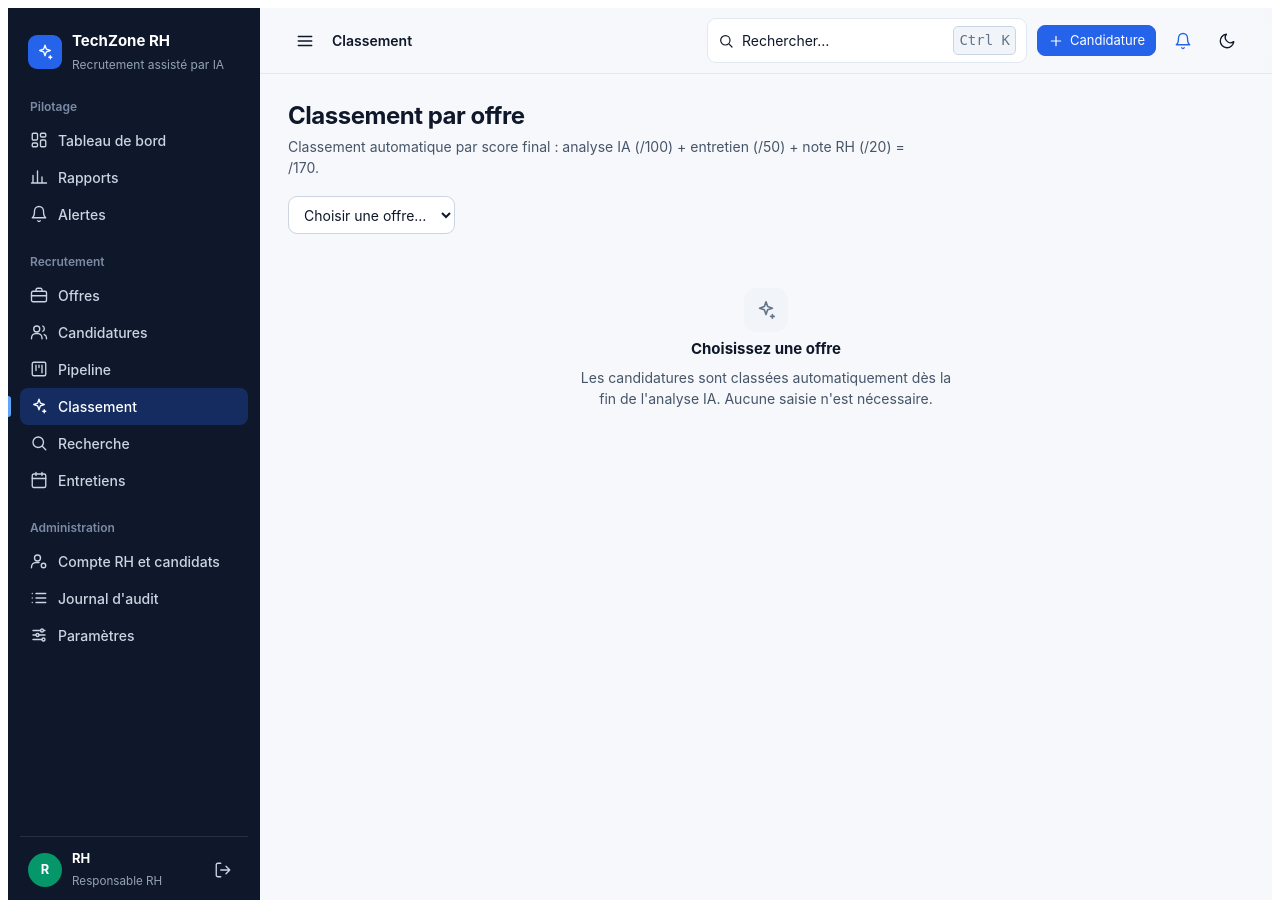
Test: shows the ranking by final score and enables invitations once the offer is open
Select "Dev" in the dropdown named "Offre" at (372, 215), box [288, 196, 455, 234]
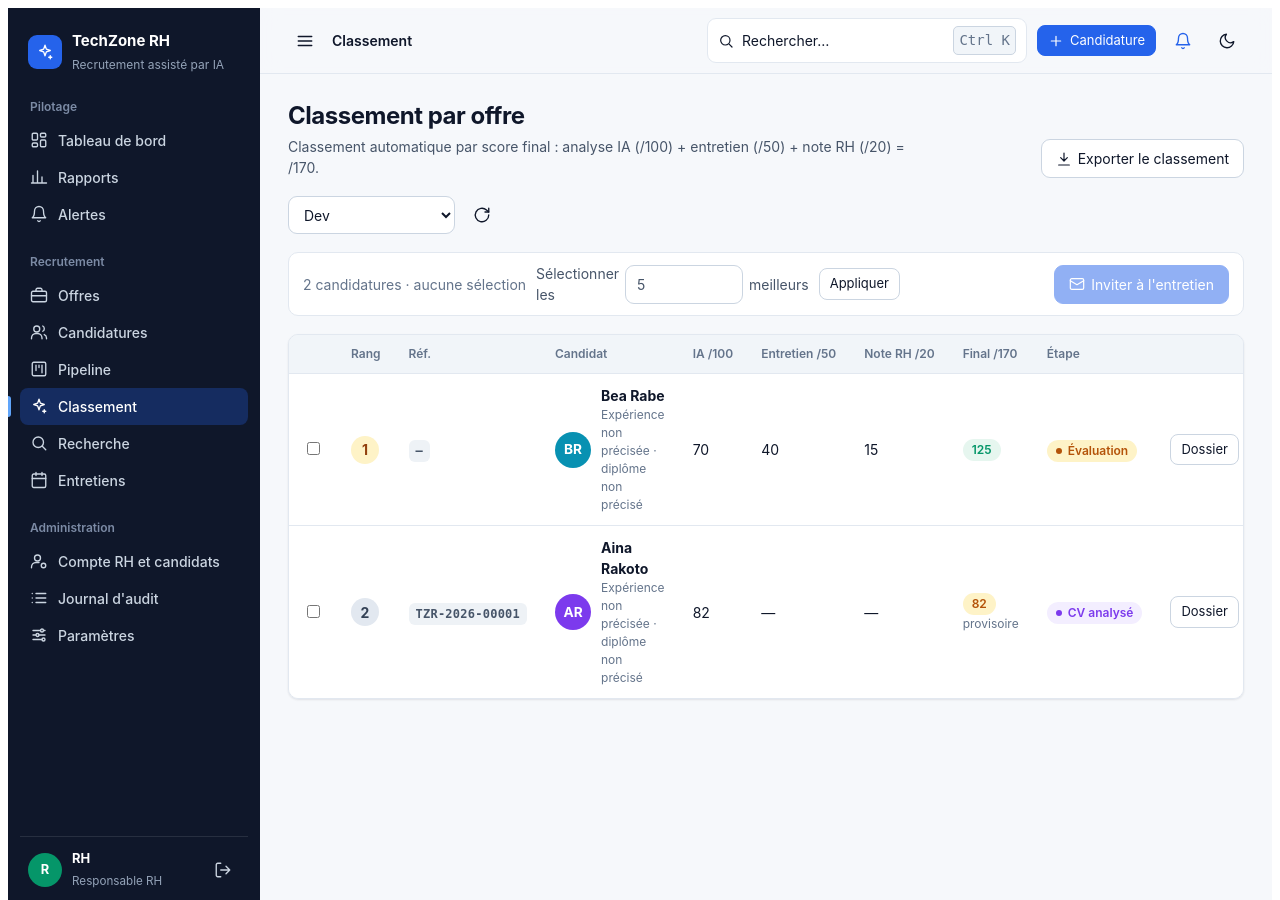
Expected: the text "Bea Rabe" is shown, [601, 385, 665, 406]
Expected: the row that starts with "Bea Rabe" is shown, [601, 387, 665, 404]
Expected: the row that starts with "Bea Rabe" shows "125", [972, 442, 992, 457]
Click the checkbox named "Sélectionner Aina Rakoto".
click(314, 611)  # box [307, 604, 320, 618]
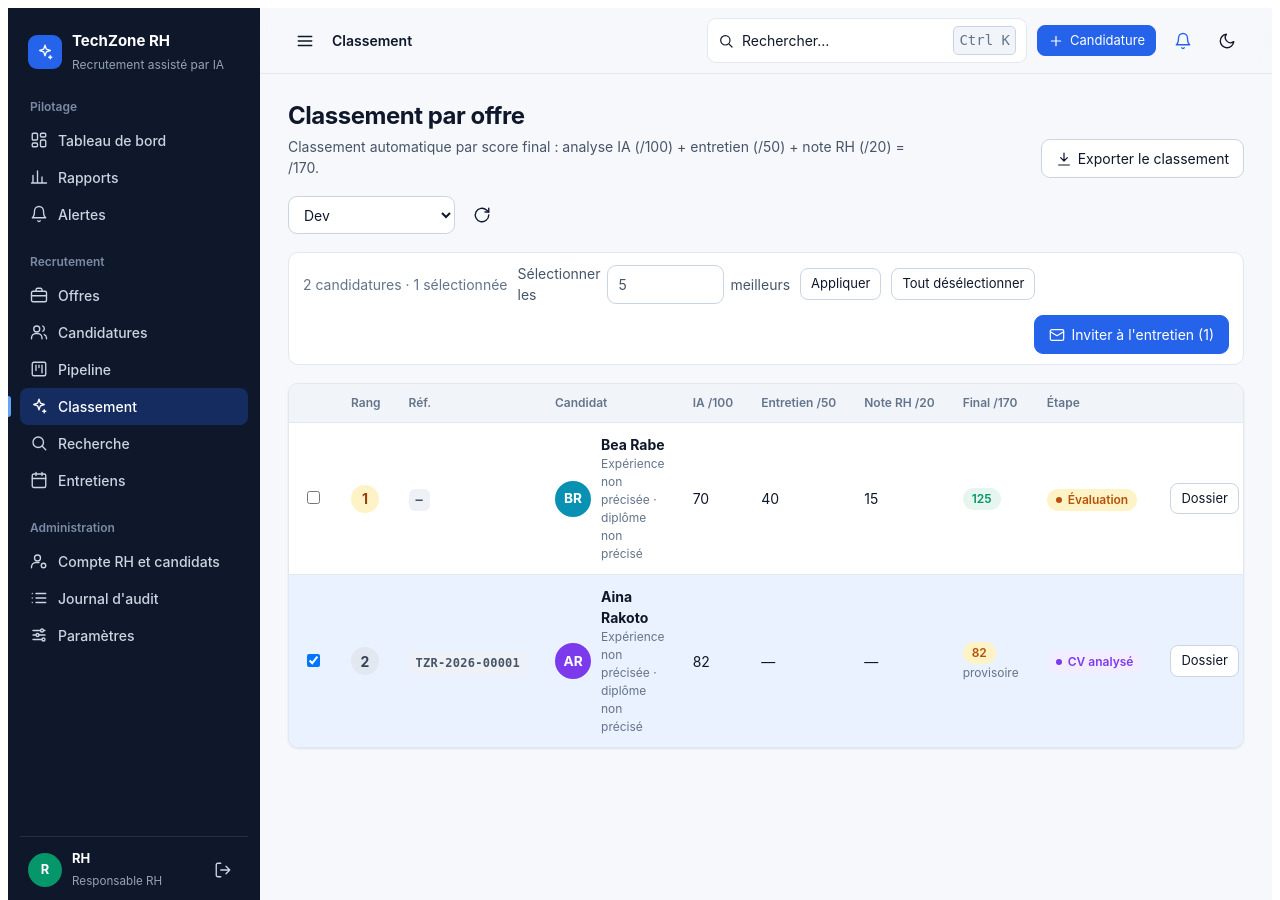
Expected: the button "Inviter à l'entretien (1)" is enabled, [1034, 315, 1229, 354]
